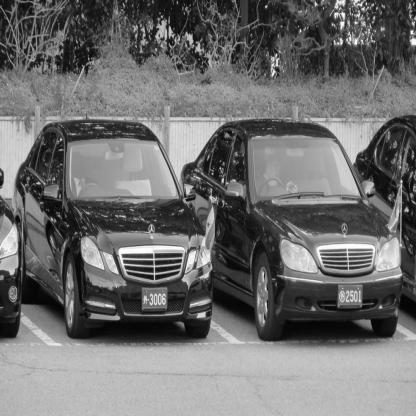car: (173, 101, 416, 347), (9, 107, 224, 350)
